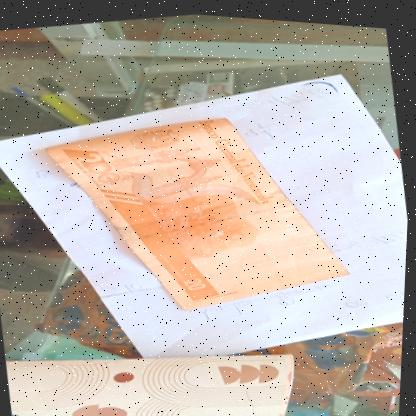twenty-back-vef: (37, 85, 362, 336)
